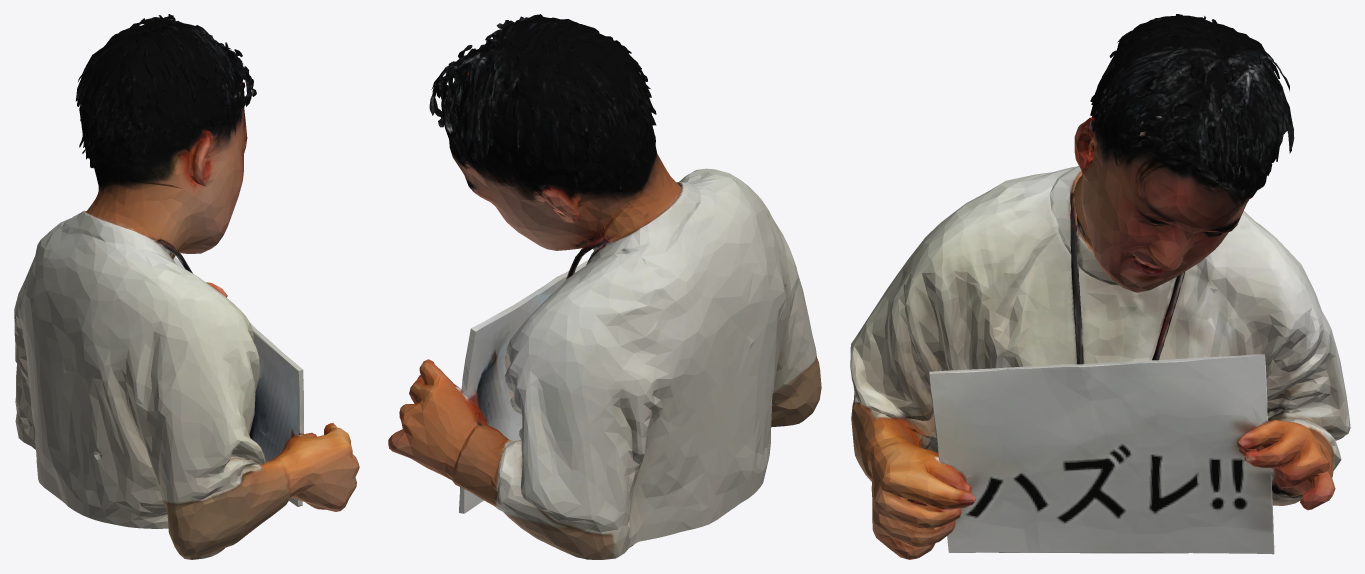
File: okuda.glb
The picture shows the model from 3 angles, left to right: view 1: azimuth 30°, elevation 25°; view 2: azimuth 150°, elevation 25°; view 3: azimuth 270°, elevation 25°; orthographic projection. The views are drawn at different scales.
Visible parts, largest first — view 1: tripo_node_fa88797b-36eb-4734-8635-db372d9e7ee7; view 2: tripo_node_fa88797b-36eb-4734-8635-db372d9e7ee7; view 3: tripo_node_fa88797b-36eb-4734-8635-db372d9e7ee7.
Part boxes in pixels (left/top/right/bottom): tripo_node_fa88797b-36eb-4734-8635-db372d9e7ee7: left=14, top=14, right=359, bottom=559; tripo_node_fa88797b-36eb-4734-8635-db372d9e7ee7: left=388, top=14, right=821, bottom=559; tripo_node_fa88797b-36eb-4734-8635-db372d9e7ee7: left=850, top=14, right=1350, bottom=559.
Bounding box in the file's own units: 0.5773 × 0.999 × 0.8972.
Materials: 1 (1 with a texture image).
